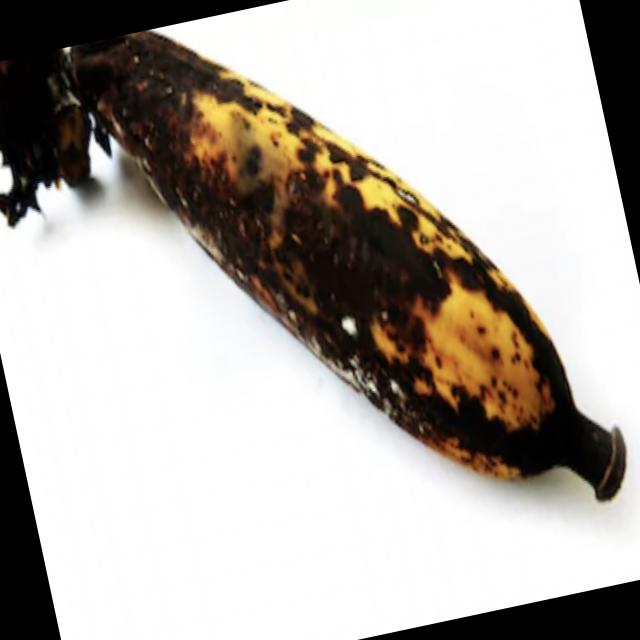rotten-banana: (75, 0, 607, 554)
